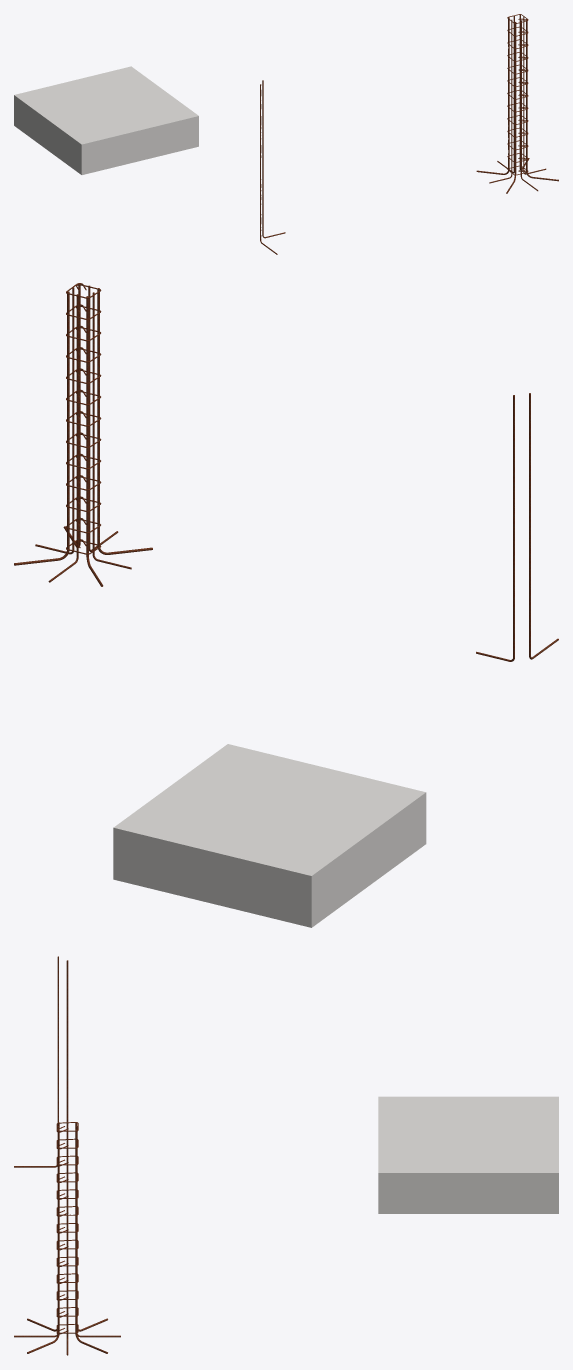
The picture shows the model from 3 angles, top to bottom: view 1: azimuth 30°, elevation 25°; view 2: azimuth 150°, elevation 25°; view 3: azimuth 270°, elevation 25°; orthographic projection. The views are drawn at different scales.
Parts seen in each view (by area): view 1: Footing-Rectangular 1800 x 1800 x 450mm [329140]001, Rebar Bar H10 : Shape 52 [368381]_[319274]001, Rebar Bar H20 : Shape Rebar Shape 1 [368385]_[319274]001, Rebar Bar H20 : Shape Rebar Shape 1 [368382]_[319274]001, Rebar Bar H20 : Shape Rebar Shape 1 [368384]_[319274]001, Rebar Bar H16 : Shape Rebar Shape 1 [368377]_[319274]001, Rebar Bar H16 : Shape Rebar Shape 1 [368389]_[319274]001, Rebar Bar H16 : Shape Rebar Shape 1 [368387]_[319274]001, Rebar Bar H16 : Shape Rebar Shape 1 [368386]_[319274]001, Rebar Bar H16 : Shape Rebar Shape 1 [368388]_[319274]001; view 2: Footing-Rectangular 1800 x 1800 x 450mm [329140]001, Rebar Bar H10 : Shape 52 [368381]_[319274]001, Rebar Bar H20 : Shape Rebar Shape 1 [368383]_[319274]001, Rebar Bar H20 : Shape Rebar Shape 1 [368385]_[319274]001, Rebar Bar H20 : Shape Rebar Shape 1 [368382]_[319274]001, Rebar Bar H16 : Shape Rebar Shape 1 [368387]_[319274]001, Rebar Bar H16 : Shape Rebar Shape 1 [368388]_[319274]001, Rebar Bar H16 : Shape Rebar Shape 1 [368386]_[319274]001; view 3: Footing-Rectangular 1800 x 1800 x 450mm [329140]001, Rebar Bar H10 : Shape 52 [368381]_[319274]001, Rebar Bar H20 : Shape Rebar Shape 1 [368383]_[319274]001, Rebar Bar H20 : Shape Rebar Shape 1 [368384]_[319274]001, Rebar Bar H16 : Shape Rebar Shape 1 [368388]_[319274]001.
Boxes of the visible parts, x1,y1,x2,y2 form: Footing-Rectangular 1800 x 1800 x 450mm [329140]001: (14,66,198,174); Rebar Bar H10 : Shape 52 [368381]_[319274]001: (507,14,528,175); Rebar Bar H20 : Shape Rebar Shape 1 [368385]_[319274]001: (506,22,516,193); Rebar Bar H20 : Shape Rebar Shape 1 [368382]_[319274]001: (476,17,509,174); Rebar Bar H20 : Shape Rebar Shape 1 [368384]_[319274]001: (526,19,558,181); Rebar Bar H16 : Shape Rebar Shape 1 [368377]_[319274]001: (262,80,285,238); Rebar Bar H16 : Shape Rebar Shape 1 [368389]_[319274]001: (520,20,538,191); Rebar Bar H16 : Shape Rebar Shape 1 [368387]_[319274]001: (489,19,512,183); Rebar Bar H16 : Shape Rebar Shape 1 [368386]_[319274]001: (497,15,514,173); Rebar Bar H16 : Shape Rebar Shape 1 [368388]_[319274]001: (523,16,546,174); Footing-Rectangular 1800 x 1800 x 450mm [329140]001: (113,744,426,927); Rebar Bar H10 : Shape 52 [368381]_[319274]001: (66,283,101,554); Rebar Bar H20 : Shape Rebar Shape 1 [368383]_[319274]001: (14,291,69,565); Rebar Bar H20 : Shape Rebar Shape 1 [368385]_[319274]001: (97,288,152,554); Rebar Bar H20 : Shape Rebar Shape 1 [368382]_[319274]001: (86,296,103,586); Rebar Bar H16 : Shape Rebar Shape 1 [368387]_[319274]001: (92,292,131,569); Rebar Bar H16 : Shape Rebar Shape 1 [368388]_[319274]001: (35,287,74,554); Rebar Bar H16 : Shape Rebar Shape 1 [368386]_[319274]001: (48,294,78,582); Footing-Rectangular 1800 x 1800 x 450mm [329140]001: (378,1096,558,1213); Rebar Bar H10 : Shape 52 [368381]_[319274]001: (56,1122,78,1334); Rebar Bar H20 : Shape Rebar Shape 1 [368383]_[319274]001: (75,1129,107,1353); Rebar Bar H20 : Shape Rebar Shape 1 [368384]_[319274]001: (27,1129,59,1353); Rebar Bar H16 : Shape Rebar Shape 1 [368388]_[319274]001: (66,1130,68,1355).
Size of the model in its own units: 5.33 by 2.41 by 5.43.
Materials: 2 (1 with a texture image).
